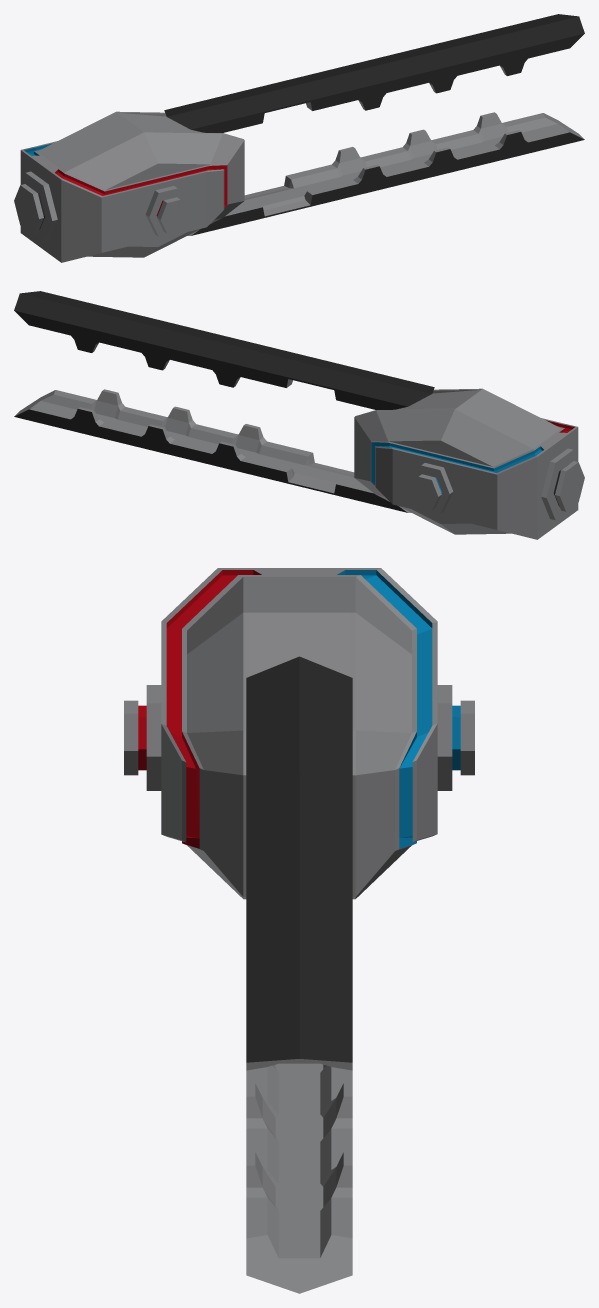
File: Railgun.fbx
The picture shows the model from 3 angles, top to bottom: view 1: azimuth 30°, elevation 25°; view 2: azimuth 150°, elevation 25°; view 3: azimuth 270°, elevation 25°; orthographic projection. The views are drawn at different scales.
Parts seen in each view (by area): view 1: RailgunCore, TopRail, BottomRail, PowerEntrance, PositivePlug; view 2: RailgunCore, TopRail, BottomRail, PowerEntrance, NegativePlug; view 3: RailgunCore, TopRail, BottomRail, PositivePlug, NegativePlug.
Boxes of the visible parts, box(x1,y1,x2,y2) form: RailgunCore: box(20, 111, 244, 262); TopRail: box(164, 14, 584, 132); BottomRail: box(187, 112, 584, 235); PowerEntrance: box(14, 171, 57, 243); PositivePlug: box(145, 186, 186, 236); RailgunCore: box(354, 388, 578, 539); TopRail: box(14, 291, 434, 409); BottomRail: box(14, 389, 411, 512); PowerEntrance: box(541, 448, 584, 520); NegativePlug: box(412, 463, 453, 513); RailgunCore: box(161, 568, 437, 899); TopRail: box(246, 656, 352, 1070); BottomRail: box(246, 1063, 352, 1293); PositivePlug: box(124, 685, 161, 790); NegativePlug: box(437, 685, 474, 790).
Size of the model in its own units: 9.12 by 1.98 by 2.51.
